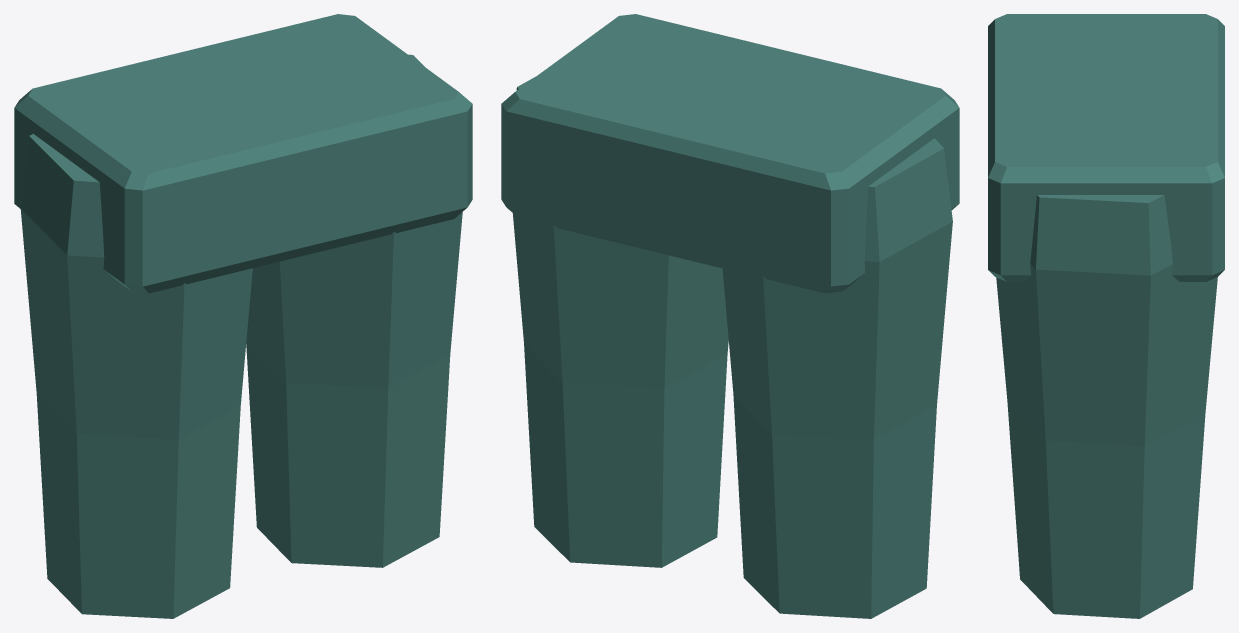
The model's file is SM_NPC_BOTTOM_000_Trousers.glb.
3 views of the same model, side by side, from view 1: azimuth 30°, elevation 25°; view 2: azimuth 150°, elevation 25°; view 3: azimuth 270°, elevation 25° (orthographic). The views are drawn at different scales.
Visible parts, largest first — view 1: SM_NPC_BOTTOM_000_Trousers; view 2: SM_NPC_BOTTOM_000_Trousers; view 3: SM_NPC_BOTTOM_000_Trousers.
Part boxes in pixels (x1,y1,x2,y2): SM_NPC_BOTTOM_000_Trousers: (14, 14, 472, 618); SM_NPC_BOTTOM_000_Trousers: (501, 14, 959, 618); SM_NPC_BOTTOM_000_Trousers: (988, 14, 1224, 618).
Size of the model in its own units: 0.5216 by 0.58 by 0.28.
